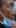mask_weared_incorrect: (1, 1, 16, 28)
